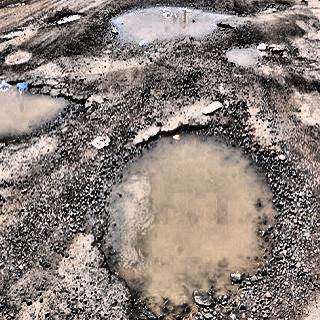pothole: (95, 112, 285, 320), (107, 0, 239, 56), (0, 76, 89, 144), (226, 41, 262, 68), (50, 7, 88, 29)
